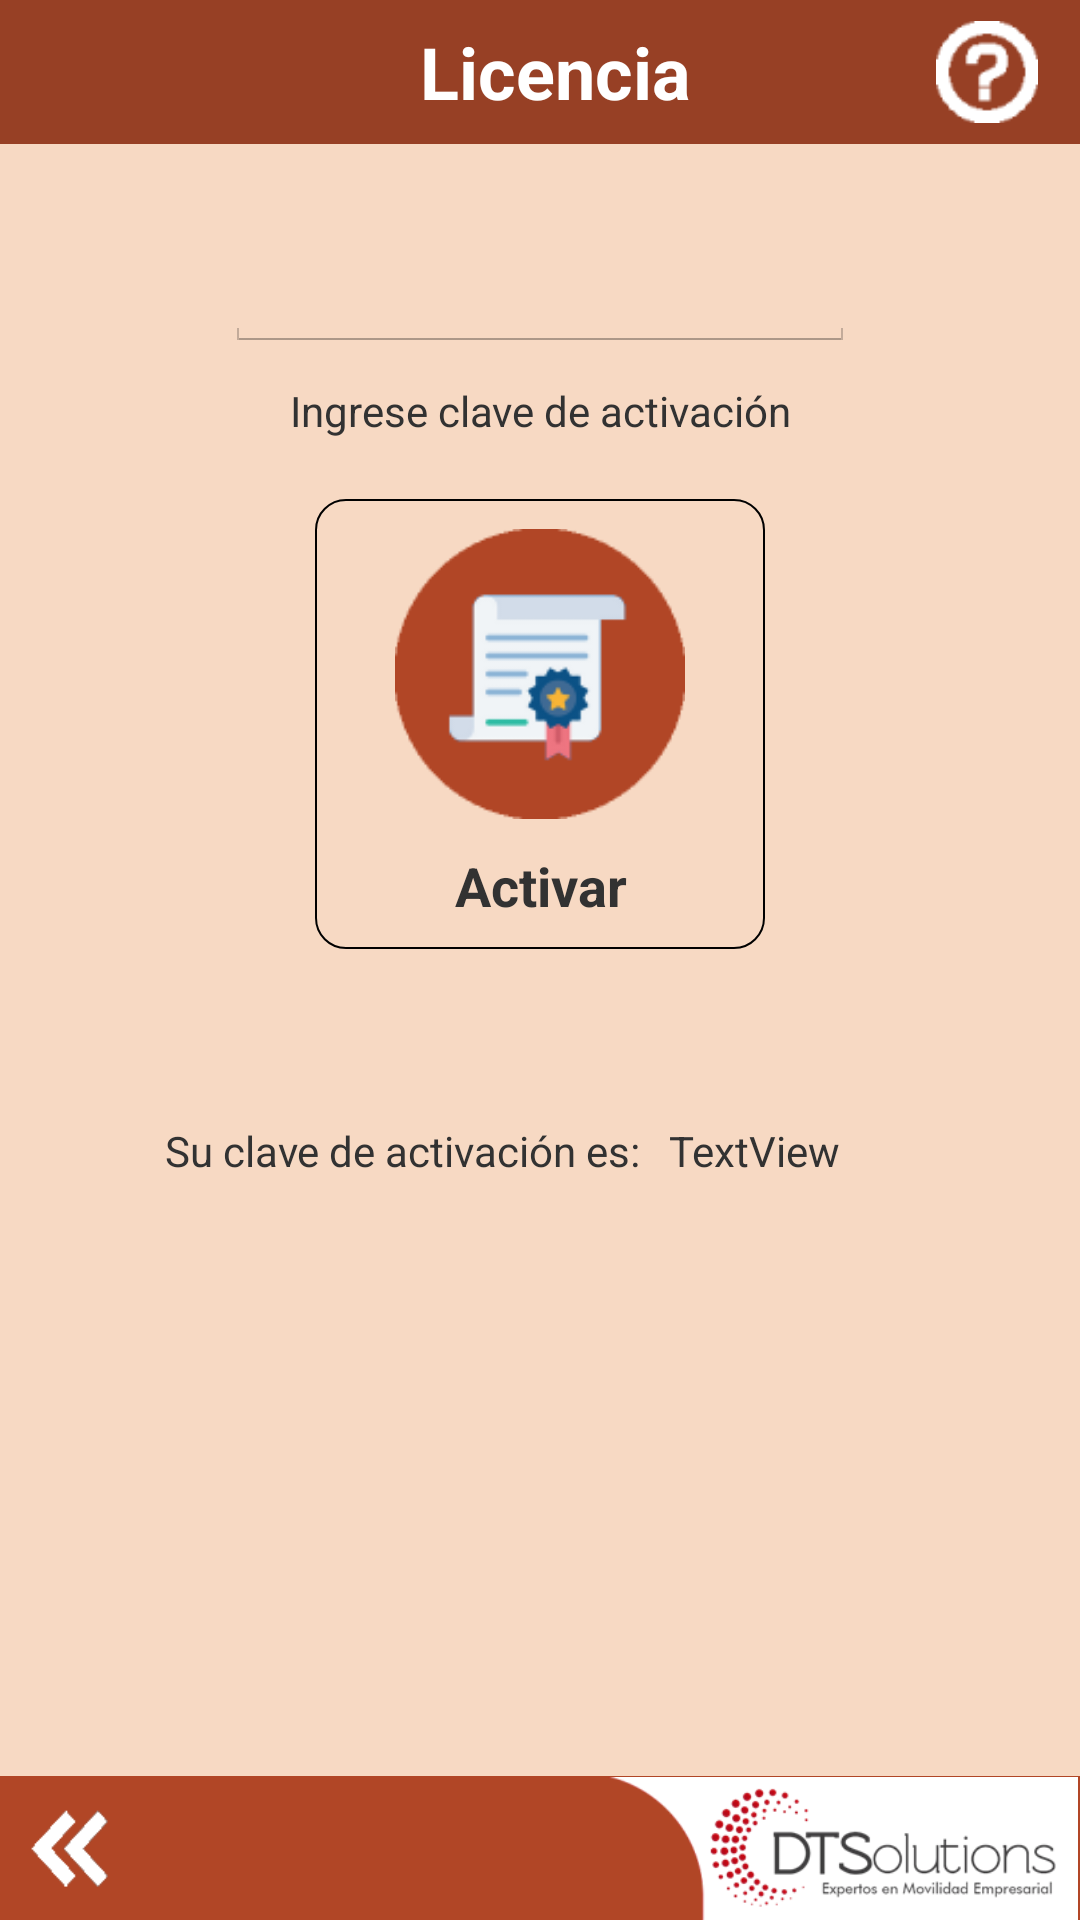

Icons on this 1080x1920 Android screen, each with its box as (x1, y1, x2, y2):
arr prev: (31, 1810, 108, 1887)
certificate: (395, 529, 685, 819)
help: (936, 21, 1038, 123)
